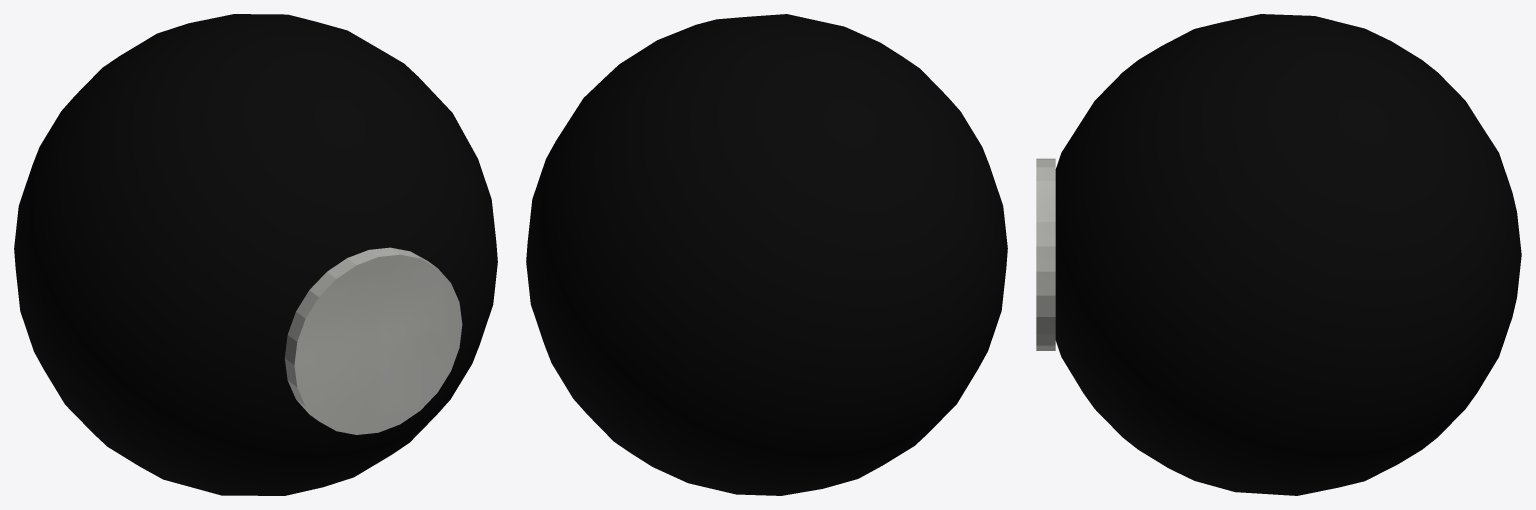
The model's file is TY34_Magic8Ball.glb.
The picture shows the model from 3 angles, left to right: view 1: azimuth 30°, elevation 25°; view 2: azimuth 150°, elevation 25°; view 3: azimuth 270°, elevation 25°; orthographic projection.
Parts seen in each view (by area): view 1: TY34_Magic8Ball; view 2: TY34_Magic8Ball; view 3: TY34_Magic8Ball.
Part boxes in pixels (x1,y1,x2,y2): TY34_Magic8Ball: (14,14,497,495); TY34_Magic8Ball: (526,14,1007,495); TY34_Magic8Ball: (1036,14,1521,495).
Size of the model in its own units: 0.0995 by 0.0995 by 0.1.
Materials: 2 (2 with a texture image).
